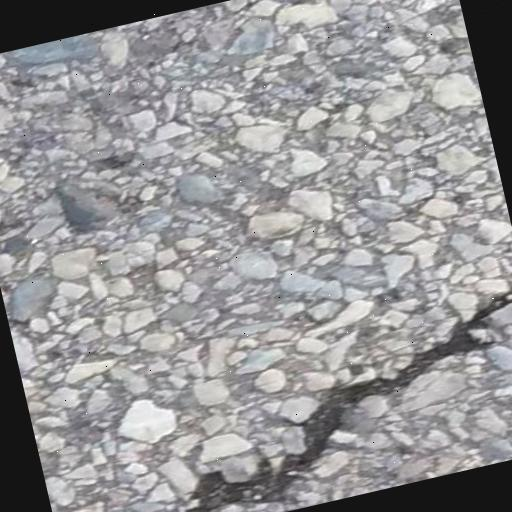spalling: (177, 283, 512, 512)
